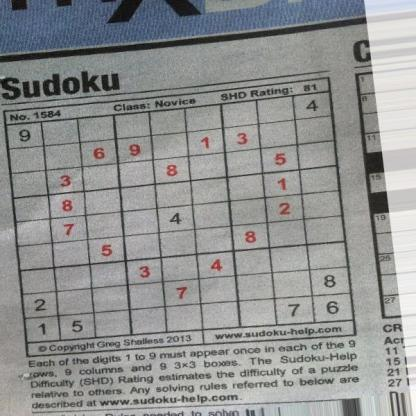sudoku: (3, 88, 357, 346)
